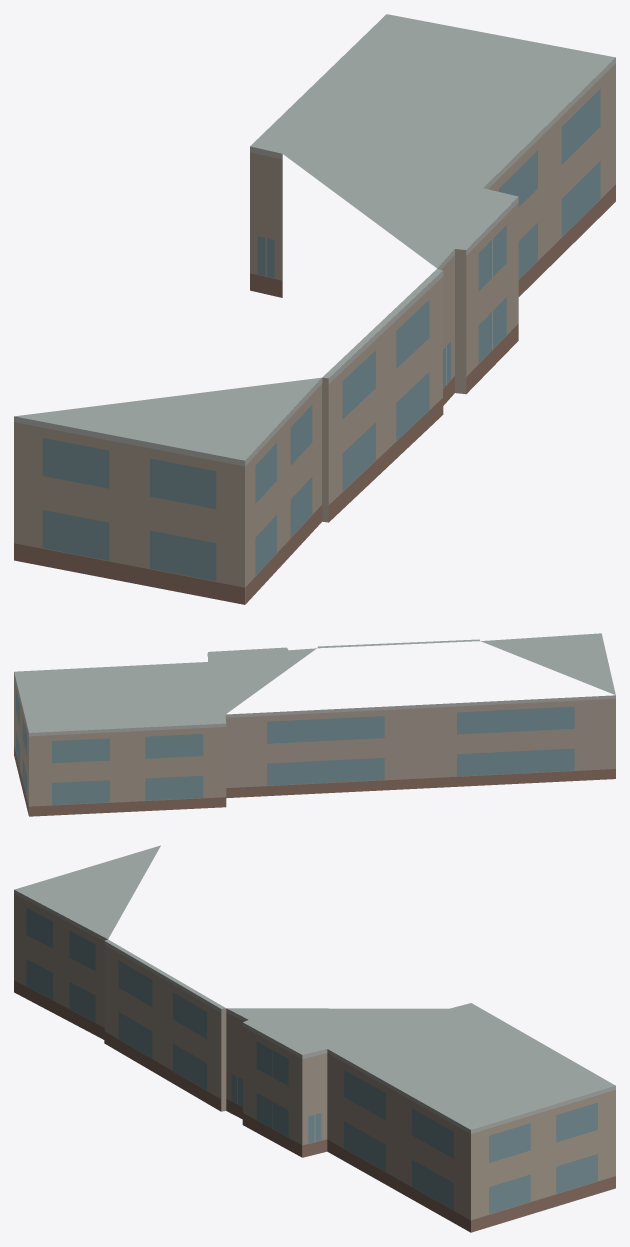
The model's file is survey-upis-32528115.glb.
The picture shows the model from 3 angles, top to bottom: view 1: azimuth 30°, elevation 25°; view 2: azimuth 150°, elevation 25°; view 3: azimuth 270°, elevation 25°; orthographic projection. The views are drawn at different scales.
Visible parts, largest first — view 1: survey-upis-32528115.tmp; view 2: survey-upis-32528115.tmp; view 3: survey-upis-32528115.tmp.
Part boxes in pixels (x1=…): survey-upis-32528115.tmp: x1=14, y1=14, x2=615, y2=604; survey-upis-32528115.tmp: x1=14, y1=633, x2=615, y2=816; survey-upis-32528115.tmp: x1=14, y1=845, x2=615, y2=1232.
Bounding box in the file's own units: 36.29 × 6.1 × 32.41.
